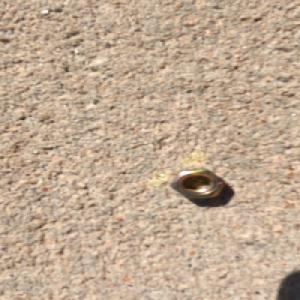Nut: (166, 166, 230, 201)
